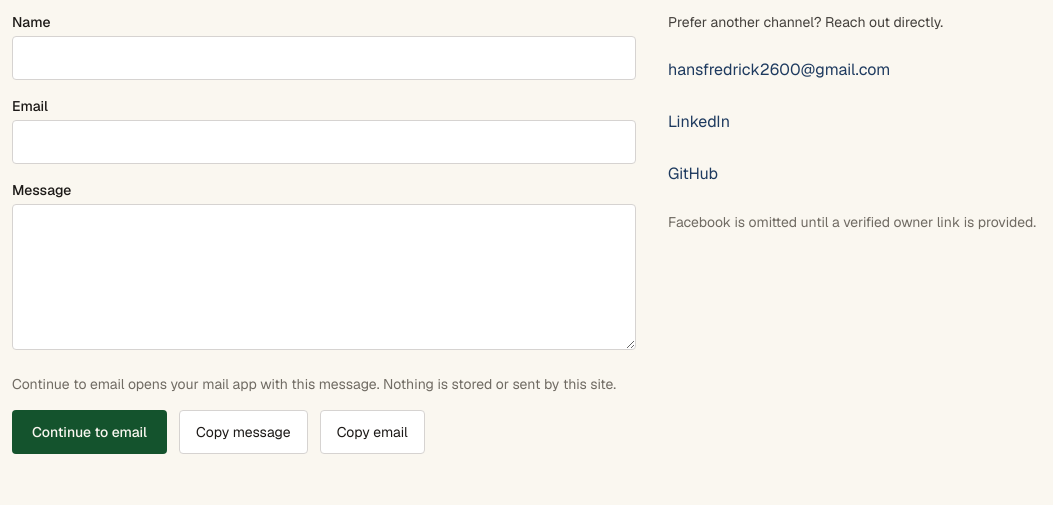
Test: ContactComposer › builds a mailto when fields are valid
In the field labelled "Name": (324, 58) [12,36,636,80], type "Jane Doe"
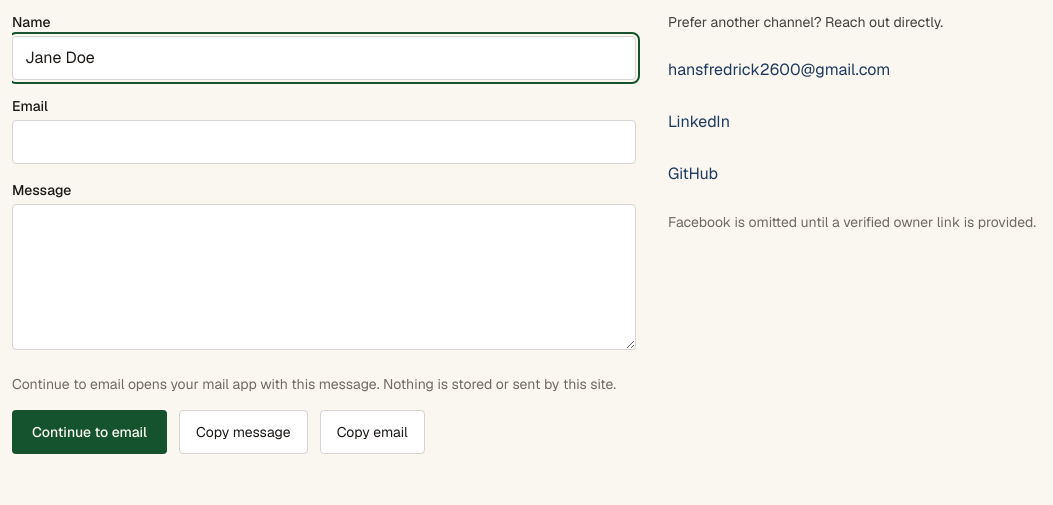
In the field labelled "Email": (324, 142) [12,120,636,164], type "jane@example.com"
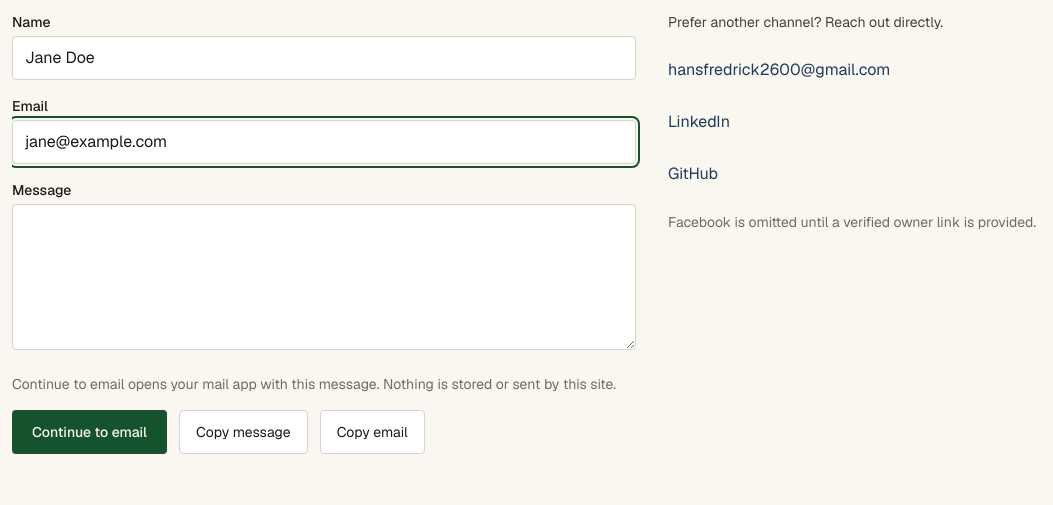
In the text box labelled "Message": (324, 277) [12,204,636,350], type "Hello there"
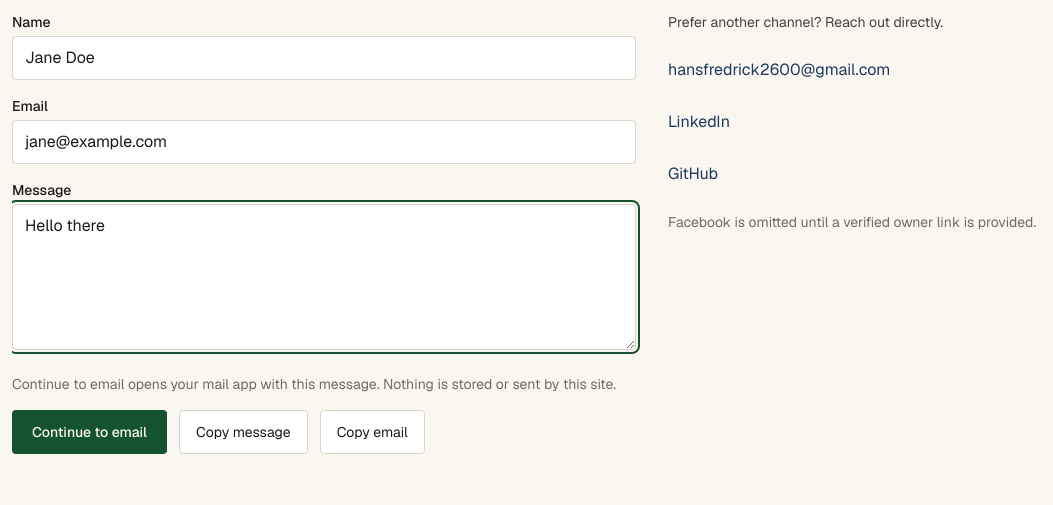
Click the button "Continue to email": (90, 432) [12,410,167,454]
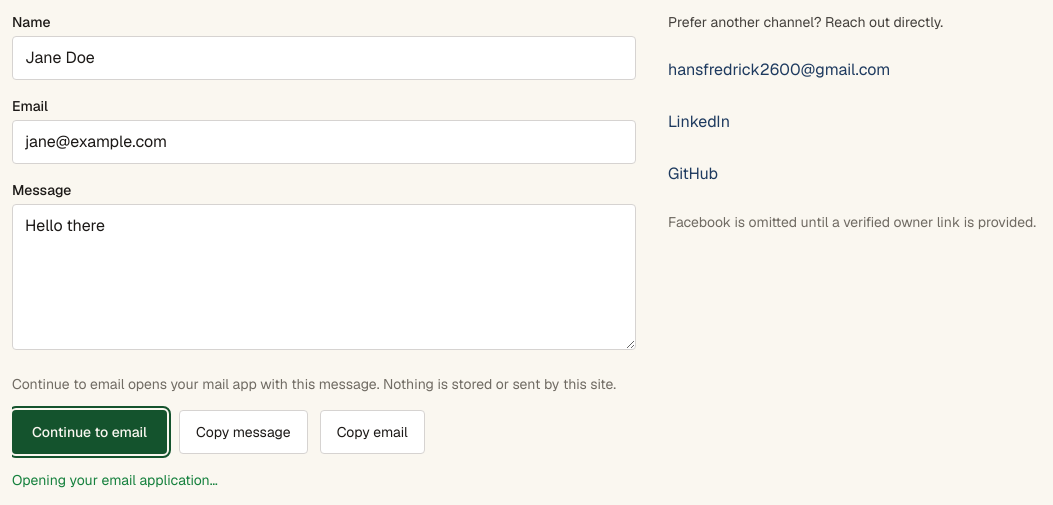
Expected: the link "hansfredrick2600@gmail.com" is shown, [668,59,890,80]
Expected: the text "Opening your email application…" is shown, [12,471,218,489]
